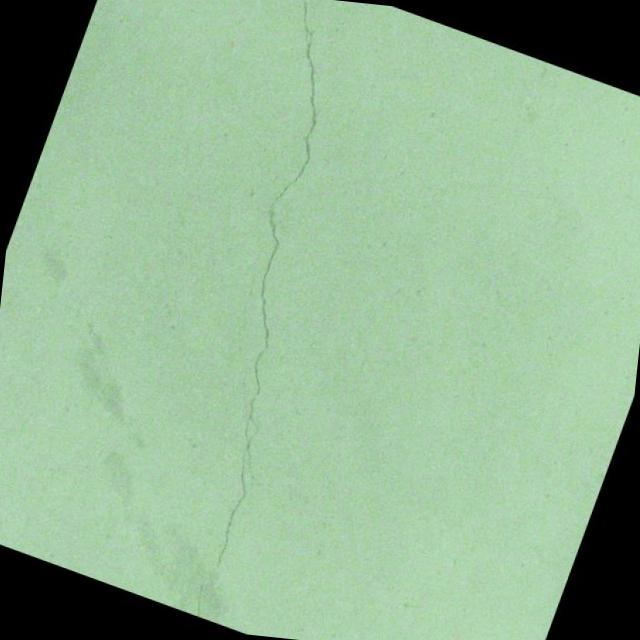crack: (67, 0, 423, 633), (279, 0, 362, 73)
